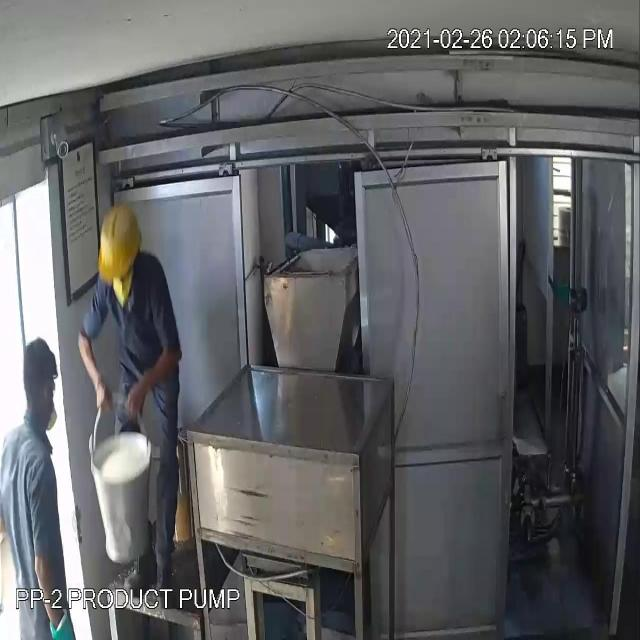helmet: (90, 202, 148, 290)
no-helmet: (11, 328, 64, 450)
